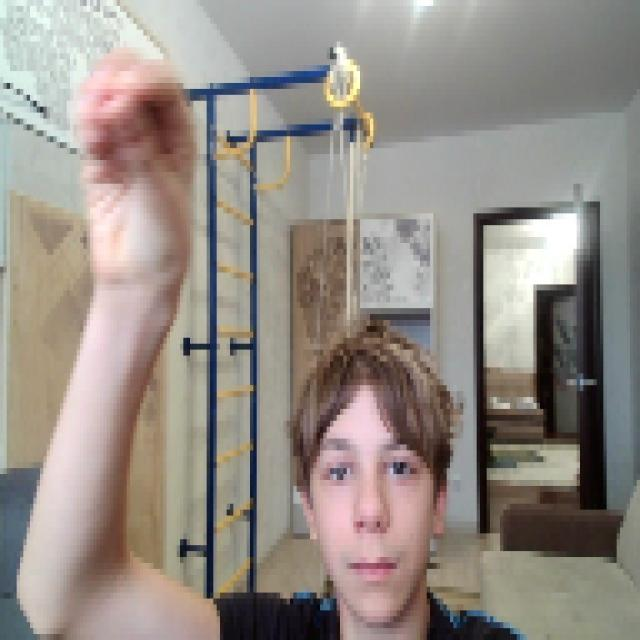left_click: (70, 36, 197, 302)
